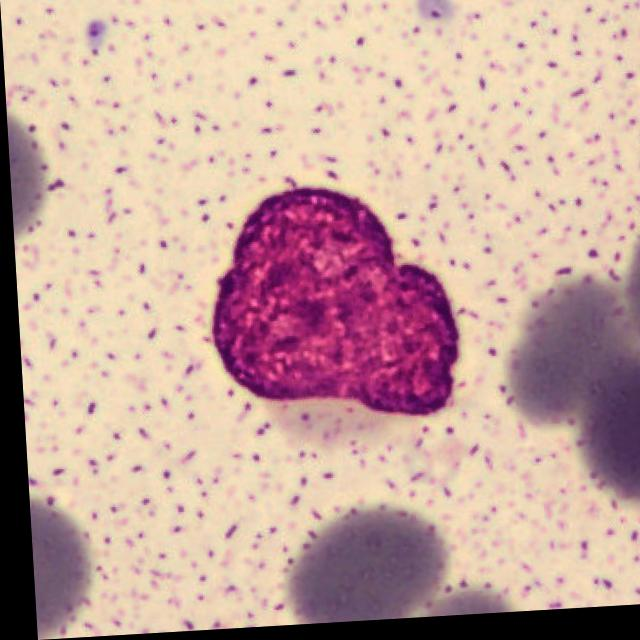Restos celulares: (206, 190, 457, 420)
